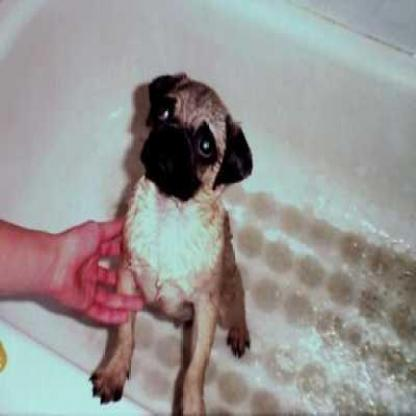pug: (87, 69, 253, 412)
